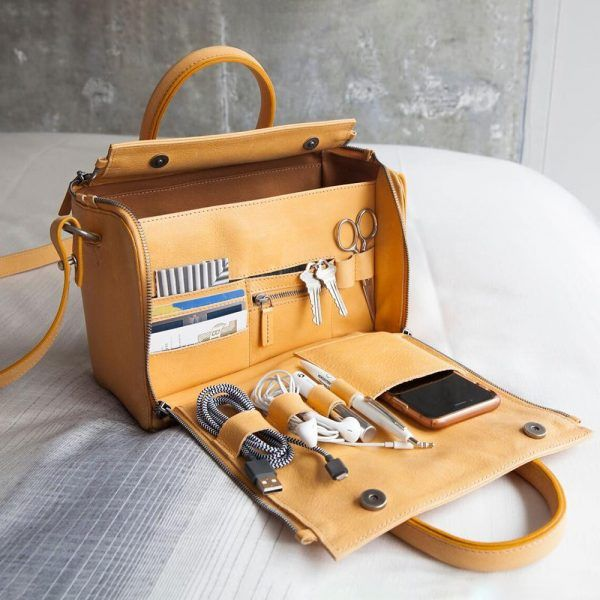cuero: (1, 46, 594, 573)
